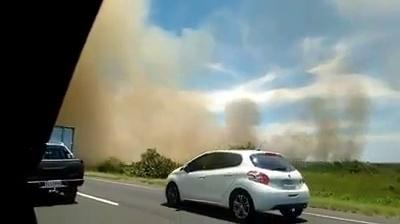smoke: (85, 62, 182, 145)
